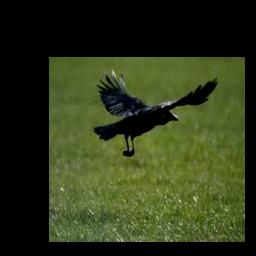Crow: (93, 65, 218, 157)
